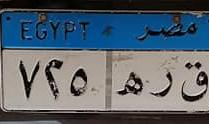2: (43, 57, 65, 103)
5: (67, 64, 90, 100)
7: (17, 55, 41, 103)
haa: (114, 68, 145, 100)
qaaf: (180, 58, 209, 104)
raa: (147, 64, 175, 101)
